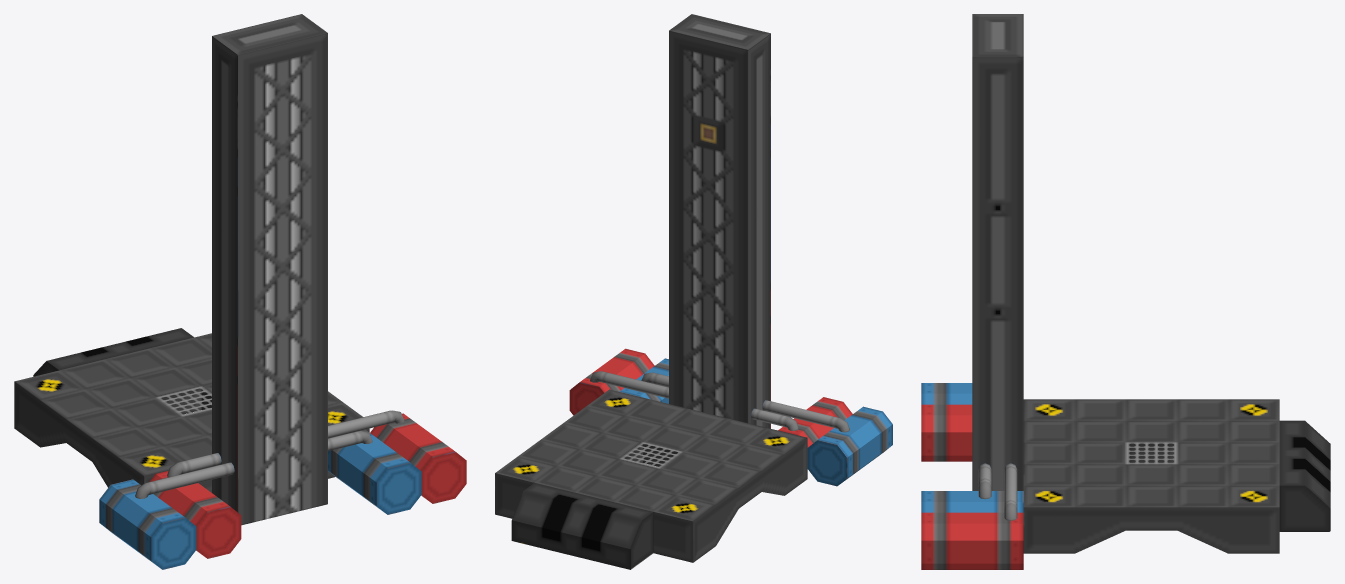
Rendered from strong_pad.obj.
The picture shows the model from 3 angles, left to right: view 1: azimuth 30°, elevation 25°; view 2: azimuth 150°, elevation 25°; view 3: azimuth 270°, elevation 25°; orthographic projection. The views are drawn at different scales.
Parts seen in each view (by area): view 1: strong_pad; view 2: strong_pad; view 3: strong_pad.
Part boxes in pixels (bbox=[...]): strong_pad: bbox=[14, 14, 466, 569]; strong_pad: bbox=[495, 14, 892, 569]; strong_pad: bbox=[921, 14, 1330, 569].
Size of the model in its own units: 7 by 10 by 8.
